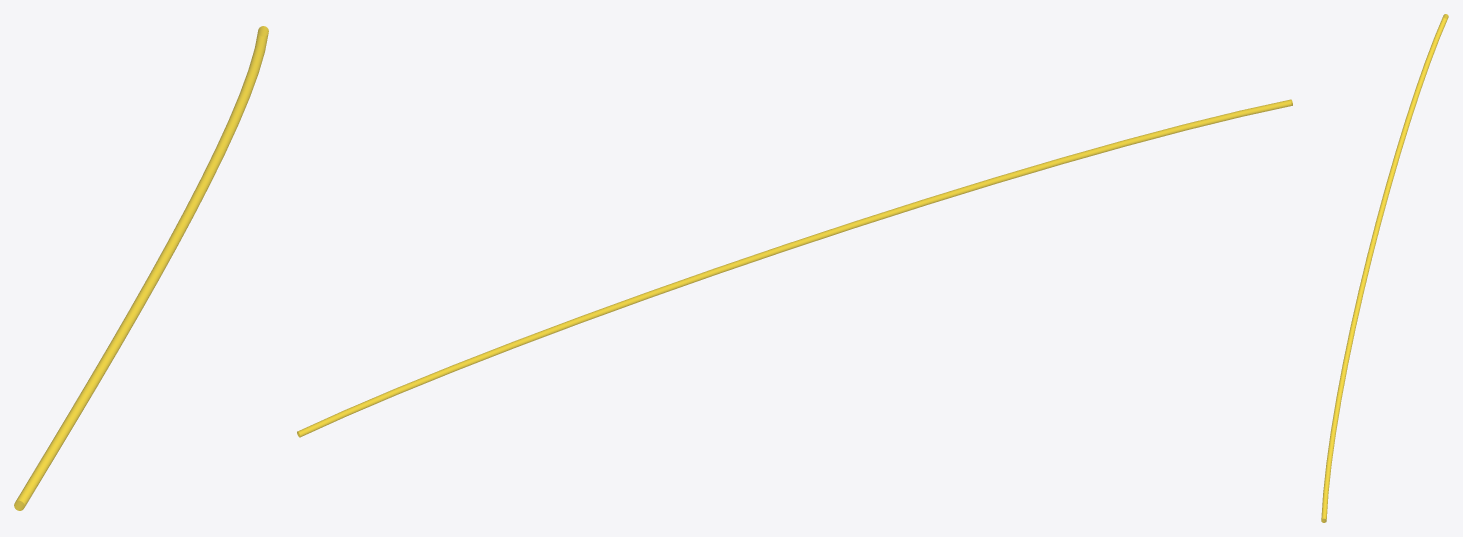
Rendered from Event_17758602_track_49.fbx.
The picture shows the model from 3 angles, left to right: view 1: azimuth 90°, elevation 25°; view 2: azimuth 210°, elevation 25°; view 3: azimuth 270°, elevation 25°; orthographic projection. The views are drawn at different scales.
Visible parts, largest first — view 1: Model; view 2: Model; view 3: Model.
Boxes of the visible parts, x1=… form: Model: x1=14, y1=26, x2=268, y2=510; Model: x1=297, y1=99, x2=1292, y2=437; Model: x1=1321, y1=14, x2=1448, y2=522.
Bounding box in the file's own units: 6.46 × 1.12 × 0.9368.
